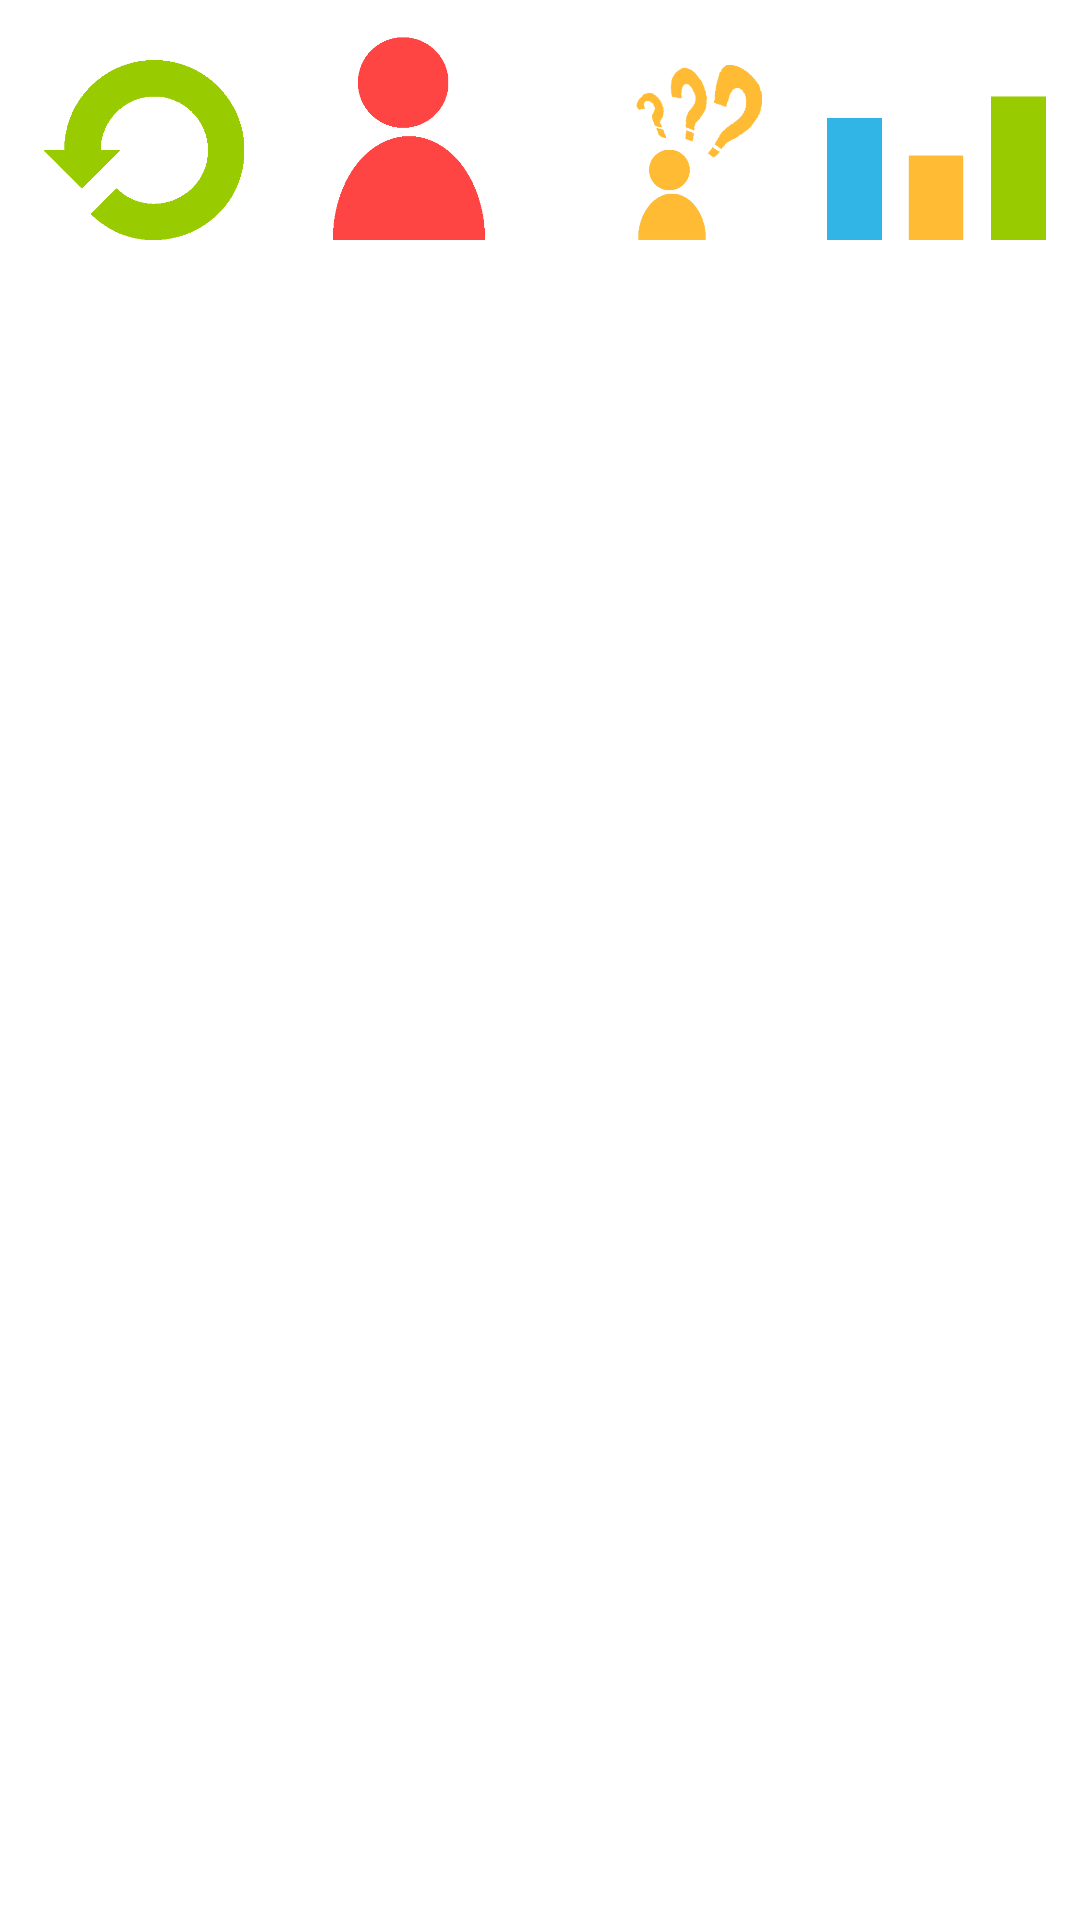

Named icons in this screenshot (1080w x 1920h) and their centers, (x,y):
Diagramm: (936,168)
Hilfe: (699,152)
Neues Spiel: (144,150)
Spieleranzahl: (409,138)
